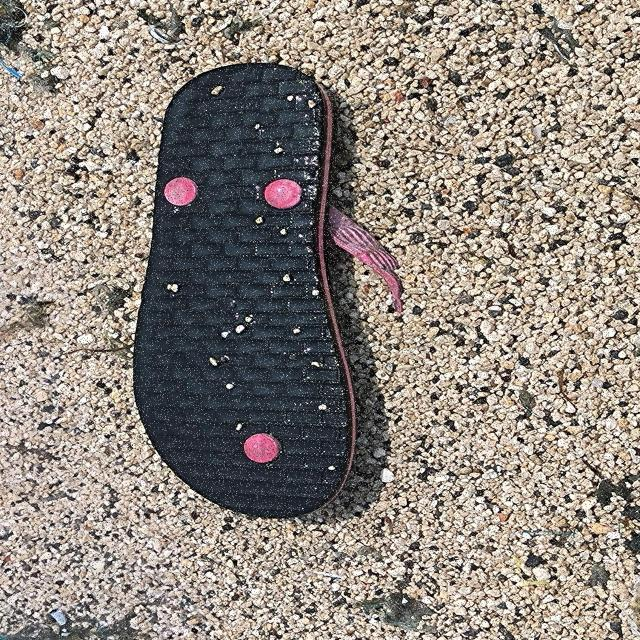rubber_waste: (133, 64, 360, 520)
